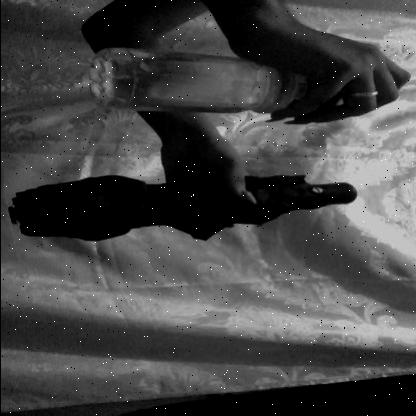Plastic Bottle: (55, 38, 406, 123)
